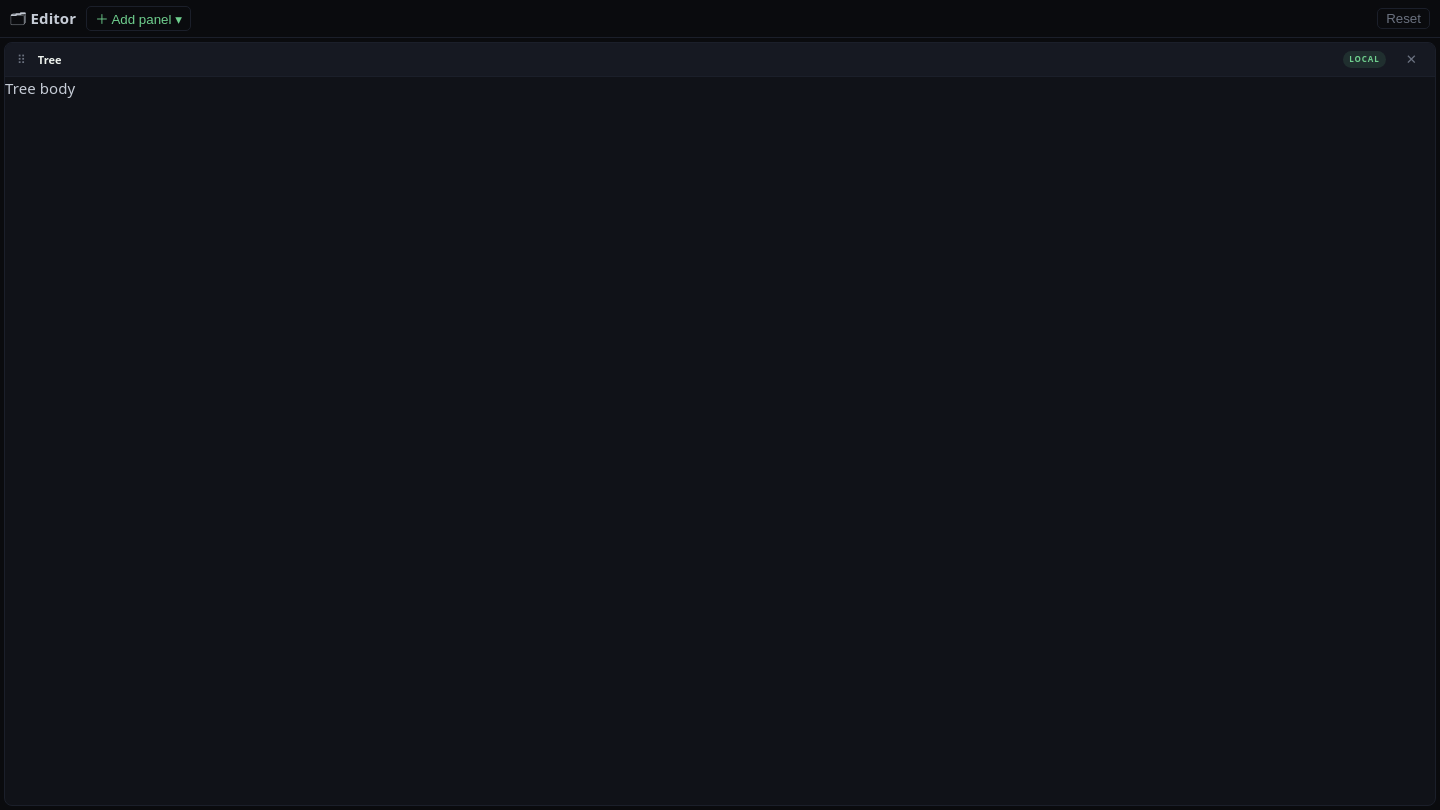
Test case: ViewArea › renders the view panels and offers un-added panels in Add menu
expect the text "Tree body" is shown: met, box left=5, top=78, right=75, bottom=98
Click the button "＋ Add panel ▾".
click(138, 18)  # box left=86, top=6, right=191, bottom=31
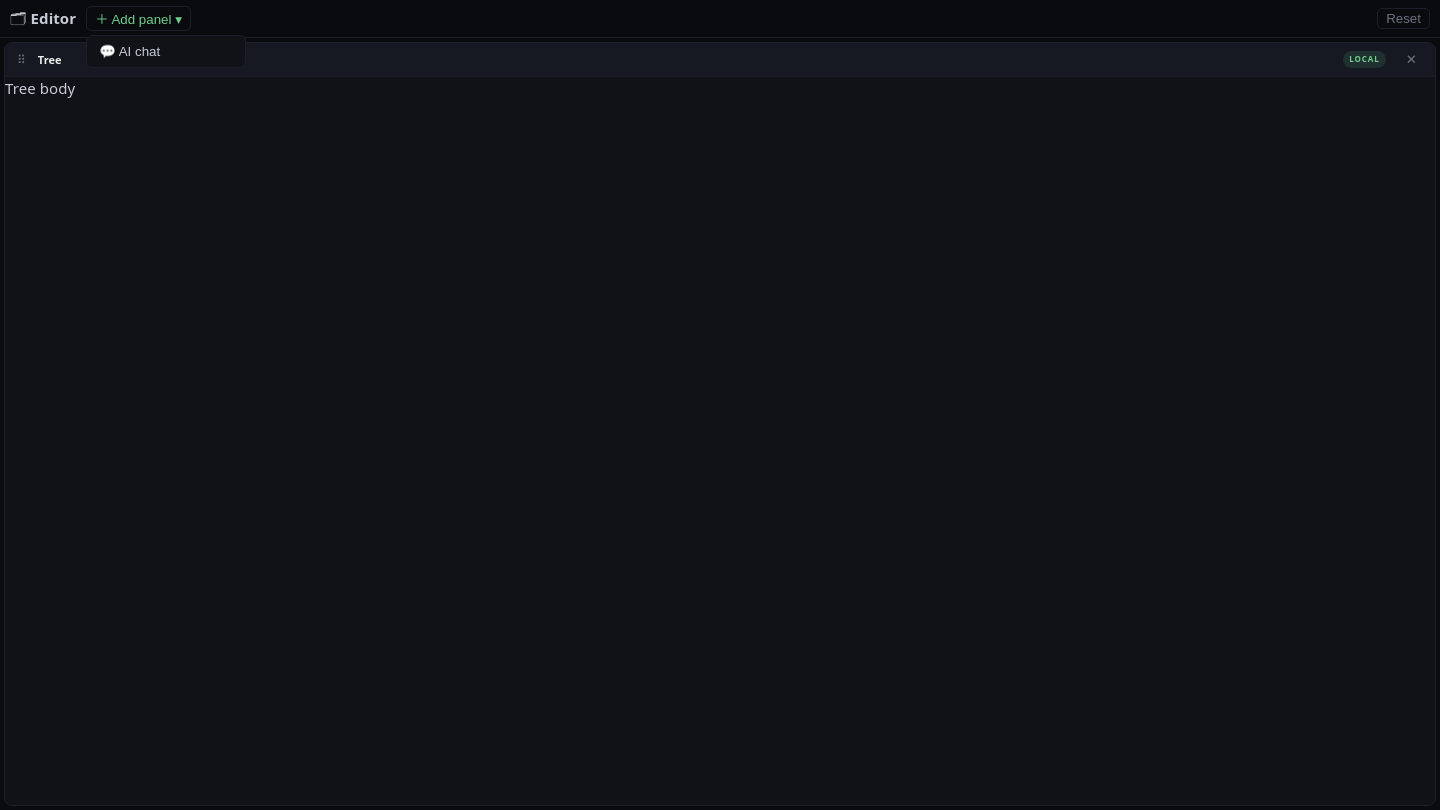
expect the menu item "💬 AI chat" is shown: met, box left=87, top=40, right=245, bottom=63
